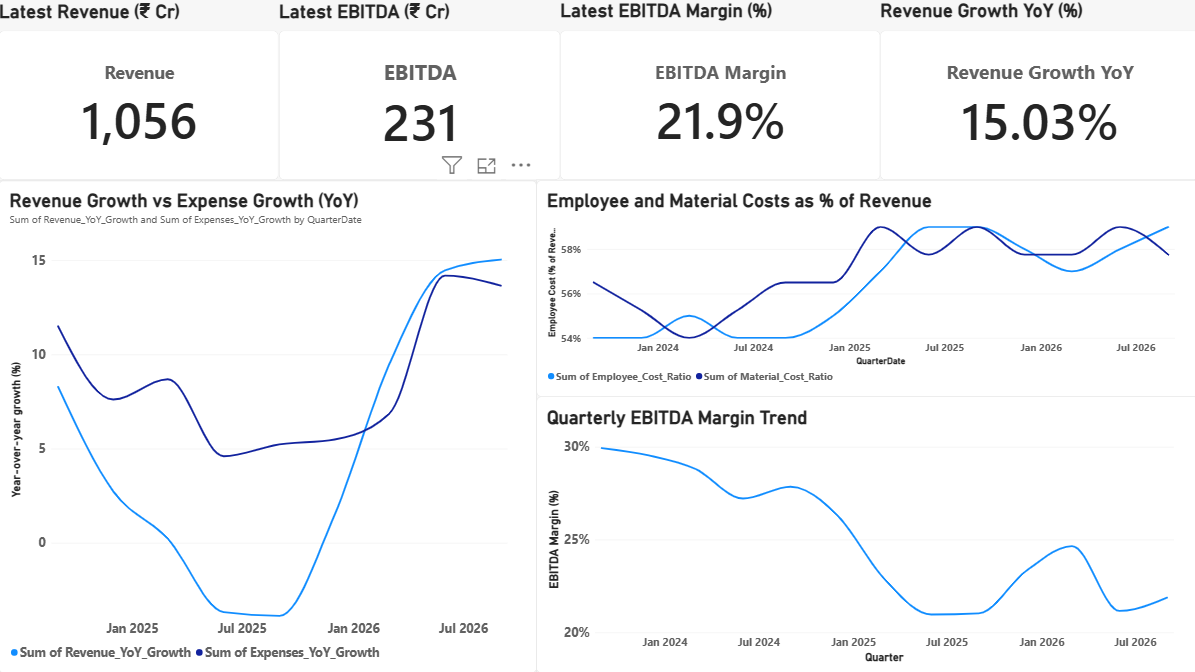

The dashboard page shown, as its layout file describes it:
{"tool":"powerbi","page":{"name":"Executive Overview","canvas":[1920,1080],"ordinal":0},"visuals":[{"type":"cardVisual","title":"Latest Revenue (₹ Cr)","fields":{"Data":["Sum(tata_elxsi_quarterly_kpis.Revenue_Cr)"]},"box":[0,0,447.5,290],"z":0},{"type":"cardVisual","title":"Latest EBITDA (₹ Cr)","fields":{"Data":["Sum(tata_elxsi_quarterly_kpis.Operating_Profit_Cr)"]},"box":[447.5,0,450,290],"z":1000},{"type":"cardVisual","title":"Latest EBITDA Margin (%)","fields":{"Data":["Sum(tata_elxsi_quarterly_kpis.Calculated_OPM_Ratio)"]},"box":[897.5,0,512.5,290],"z":2000},{"type":"cardVisual","title":"Revenue Growth YoY (%)","fields":{"Data":["tata_elxsi_quarterly_kpis.Revenue Growth YoY Display"]},"box":[1410,0,510,290],"z":3000},{"type":"lineChart","title":"Quarterly EBITDA Margin Trend","fields":{"Category":["tata_elxsi_quarterly_kpis.QuarterDate"],"Y":["Sum(tata_elxsi_quarterly_kpis.Calculated_OPM_Ratio)"]},"box":[860,636,1060,444],"z":4000},{"type":"lineChart","title":"Employee and Material Costs as % of Revenue","fields":{"Category":["tata_elxsi_quarterly_kpis.QuarterDate"],"Y":["Sum(tata_elxsi_quarterly_kpis.Employee_Cost_Ratio)"],"Y2":["Sum(tata_elxsi_quarterly_kpis.Material_Cost_Ratio)"]},"box":[860,290,1060,346],"z":5000},{"type":"lineChart","title":"Revenue Growth vs Expense Growth (YoY)","fields":{"Category":["tata_elxsi_quarterly_kpis.QuarterDate"],"Y":["Sum(tata_elxsi_quarterly_kpis.Revenue_YoY_Growth)","Sum(tata_elxsi_quarterly_kpis.Expenses_YoY_Growth)"]},"box":[0,290,860,790],"z":6000},{"type":"textbox","box":[100,100,300,300],"z":7000}]}

Visuals, with their boxes in screenshot pixels (x1, y1, x2, y2), scaled from the page's 1920x1080 canvas onto the 1195x672 screenshot:
"Latest Revenue (₹ Cr)" cardVisual: left=0, top=0, right=279, bottom=180
"Latest EBITDA (₹ Cr)" cardVisual: left=279, top=0, right=559, bottom=180
"Latest EBITDA Margin (%)" cardVisual: left=559, top=0, right=878, bottom=180
"Revenue Growth YoY (%)" cardVisual: left=878, top=0, right=1194, bottom=180
"Quarterly EBITDA Margin Trend" lineChart: left=535, top=396, right=1194, bottom=671
"Employee and Material Costs as % of Revenue" lineChart: left=535, top=180, right=1194, bottom=396
"Revenue Growth vs Expense Growth (YoY)" lineChart: left=0, top=180, right=535, bottom=671
textbox: left=62, top=62, right=249, bottom=249
